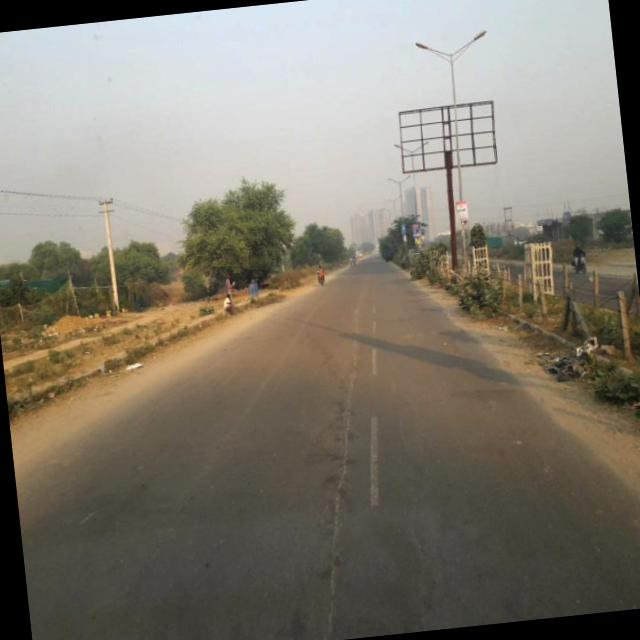crack: (292, 296, 396, 638)
